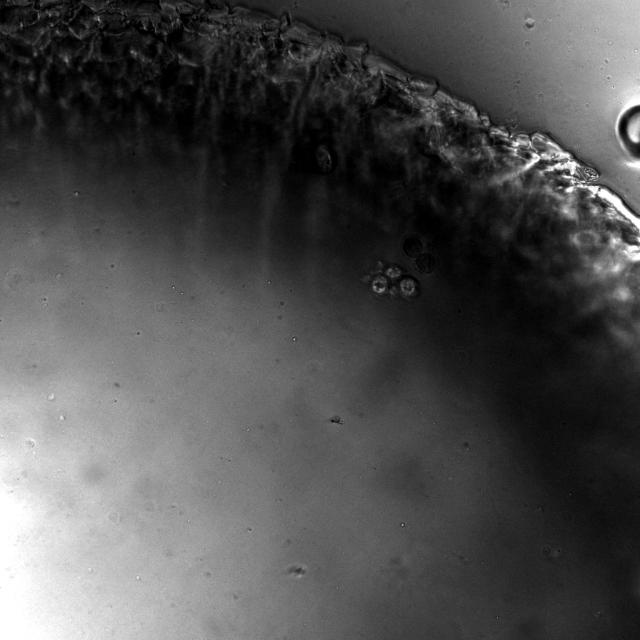organoid: (364, 262, 419, 299)
